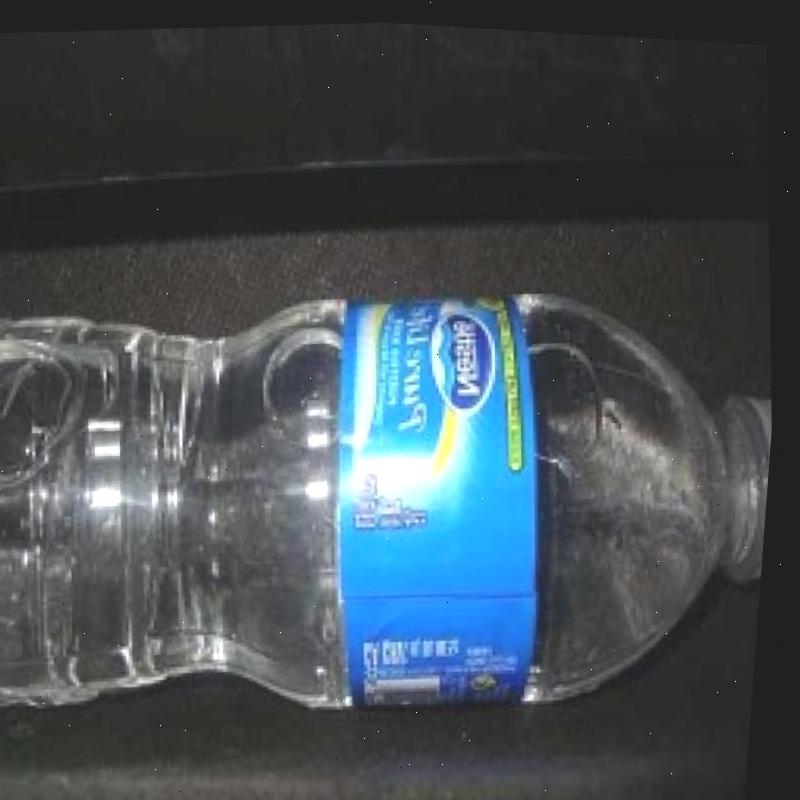botella: (0, 239, 786, 756)
